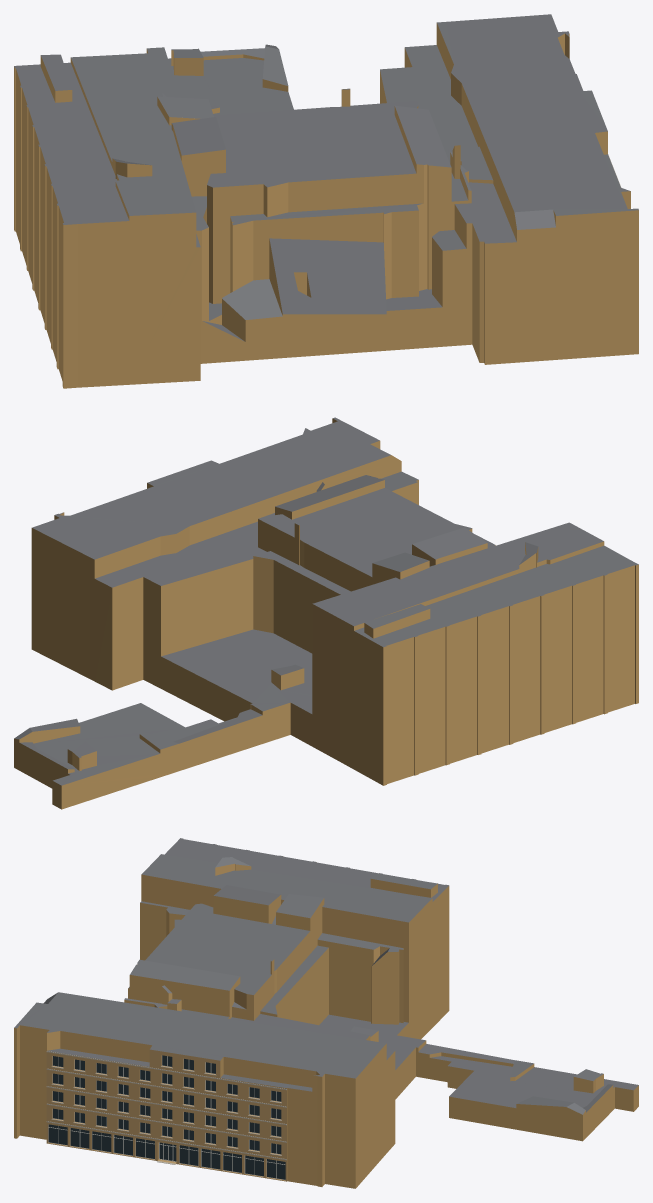
The model's file is recipe-large-van-oldenbarneveldtstraat-48-137990.glb.
3 views of the same model, one above another, from view 1: azimuth 30°, elevation 25°; view 2: azimuth 150°, elevation 25°; view 3: azimuth 270°, elevation 25° (orthographic). The views are drawn at different scales.
Parts seen in each view (by area): view 1: van-oldenbarneveldtstraat-48-137990; view 2: van-oldenbarneveldtstraat-48-137990; view 3: van-oldenbarneveldtstraat-48-137990.
Part boxes in pixels (left/top/right/bottom): van-oldenbarneveldtstraat-48-137990: left=14, top=14, right=638, bottom=388; van-oldenbarneveldtstraat-48-137990: left=14, top=417, right=638, bottom=809; van-oldenbarneveldtstraat-48-137990: left=14, top=838, right=638, bottom=1188.
Bounding box in the file's own units: 77.88 × 22.57 × 91.27.
